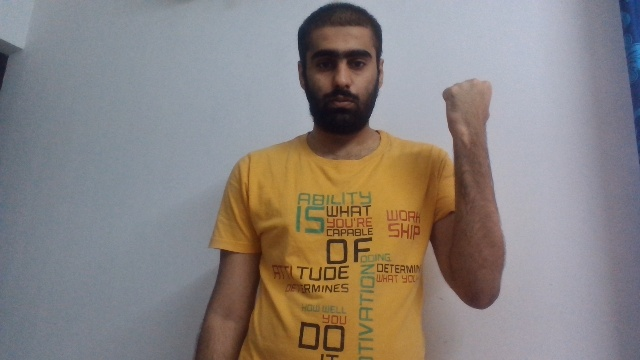rock: (441, 77, 493, 138)
